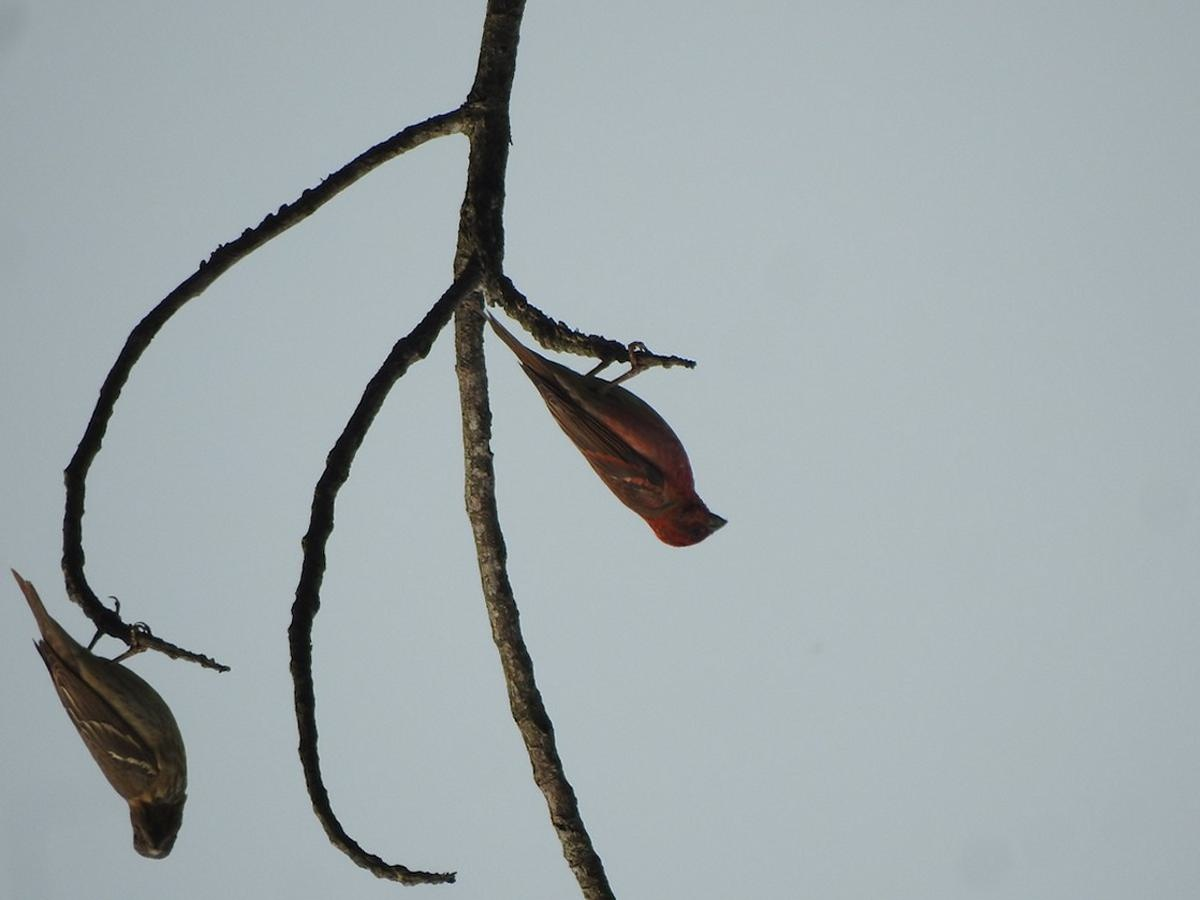rosefinch: (503, 312, 749, 553)
